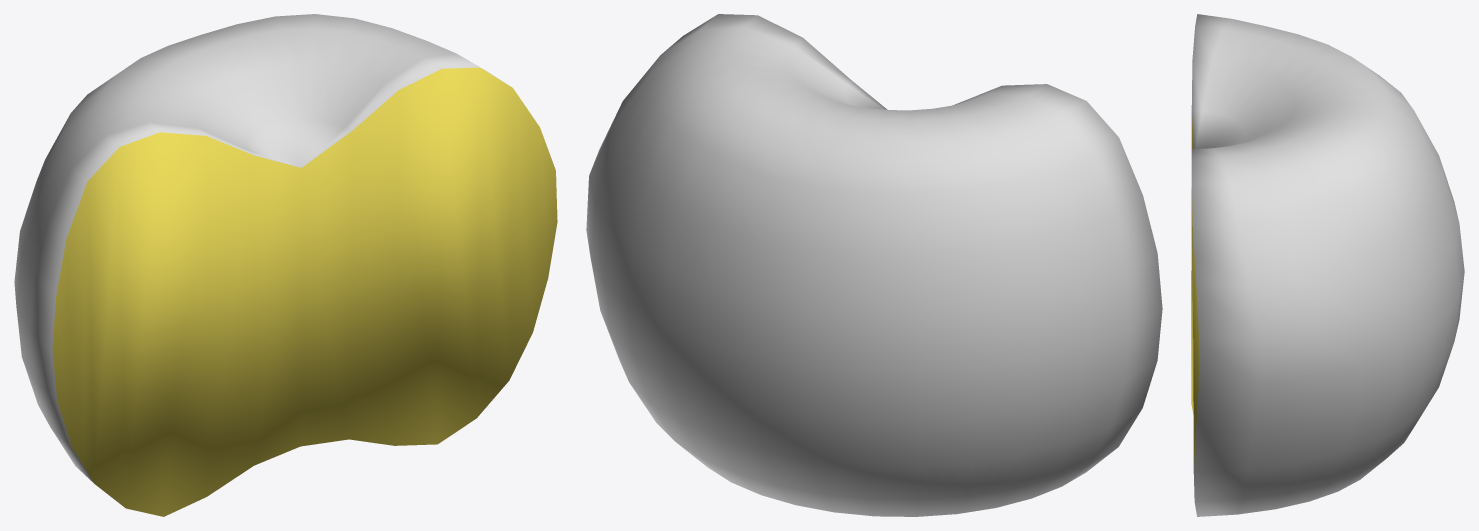
File: polovin2.fbx
The picture shows the model from 3 angles, left to right: view 1: azimuth 30°, elevation 25°; view 2: azimuth 150°, elevation 25°; view 3: azimuth 270°, elevation 25°; orthographic projection. The views are drawn at different scales.
Visible parts, largest first — view 1: Sphere.002; view 2: Sphere.002; view 3: Sphere.002.
Part boxes in pixels (bbox=[...]): Sphere.002: bbox=[14, 14, 557, 516]; Sphere.002: bbox=[586, 14, 1162, 516]; Sphere.002: bbox=[1191, 14, 1464, 516].
Bounding box in the file's own units: 203 × 147 × 100.
